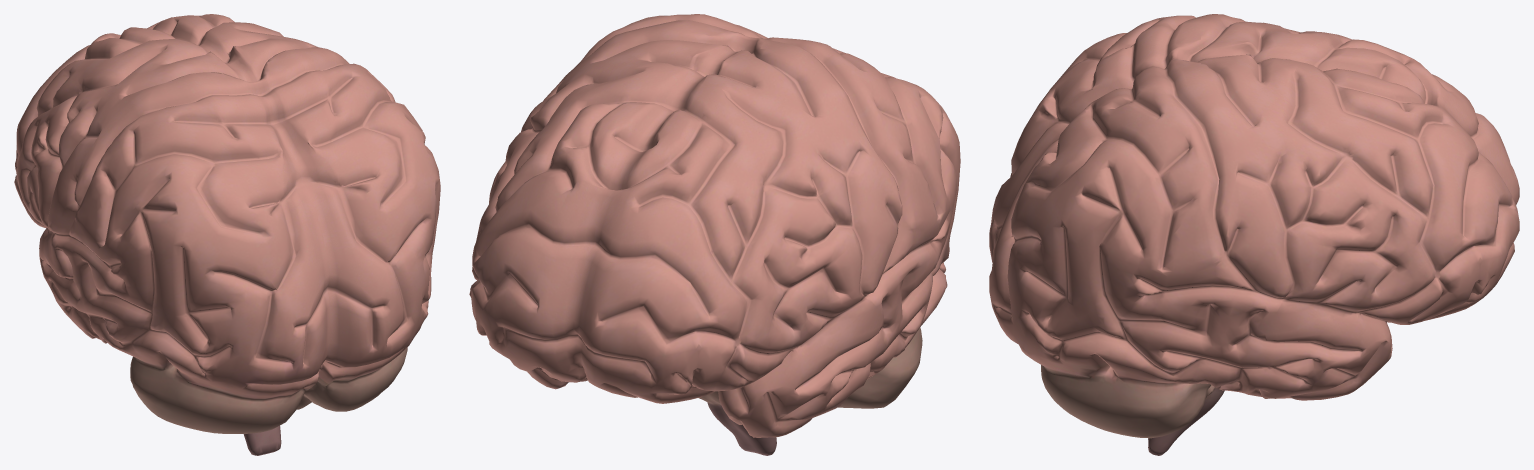
Rendered from brain.fbx.
3 views of the same model, side by side, from view 1: azimuth 30°, elevation 25°; view 2: azimuth 150°, elevation 25°; view 3: azimuth 270°, elevation 25° (orthographic). The views are drawn at different scales.
Visible parts, largest first — view 1: nao1_unfold3d:Mesh; view 2: nao1_unfold3d:Mesh; view 3: nao1_unfold3d:Mesh.
Boxes of the visible parts, bbox=[...] form: nao1_unfold3d:Mesh: bbox=[14, 14, 440, 455]; nao1_unfold3d:Mesh: bbox=[469, 14, 960, 455]; nao1_unfold3d:Mesh: bbox=[989, 14, 1519, 455].
Size of the model in its own units: 5.06 by 5.55 by 6.62.
Materials: 1 (1 with a texture image).
